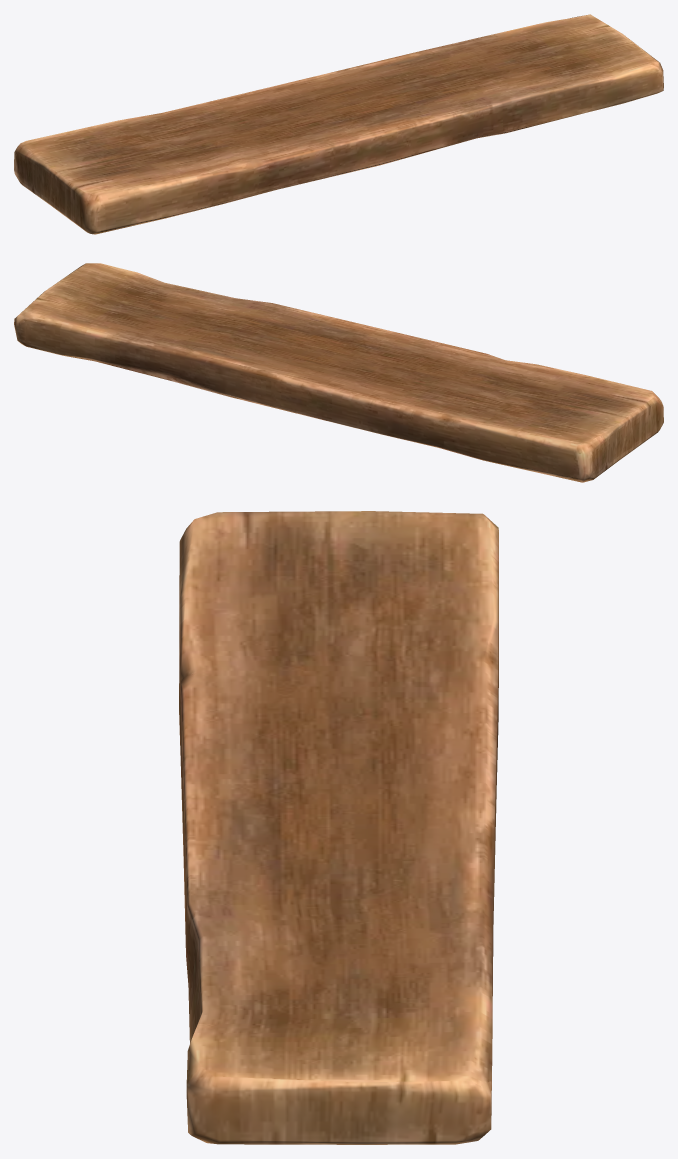
The picture shows the model from 3 angles, top to bottom: view 1: azimuth 30°, elevation 25°; view 2: azimuth 150°, elevation 25°; view 3: azimuth 270°, elevation 25°; orthographic projection. The views are drawn at different scales.
Parts seen in each view (by area): view 1: SM_Plank_Oak_01_LOD0; view 2: SM_Plank_Oak_01_LOD0; view 3: SM_Plank_Oak_01_LOD0.
Boxes of the visible parts, <box> form: SM_Plank_Oak_01_LOD0: <box>14,14,663,234</box>; SM_Plank_Oak_01_LOD0: <box>14,263,663,482</box>; SM_Plank_Oak_01_LOD0: <box>179,511,498,1144</box>.
Bounding box in the file's own units: 1.01 × 0.0642 × 0.2425.
1 material, 1 textured.
